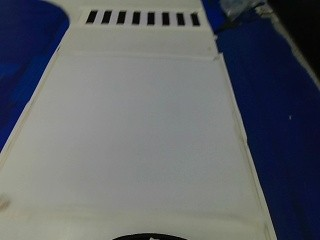crosswalk: (84, 5, 201, 31)
